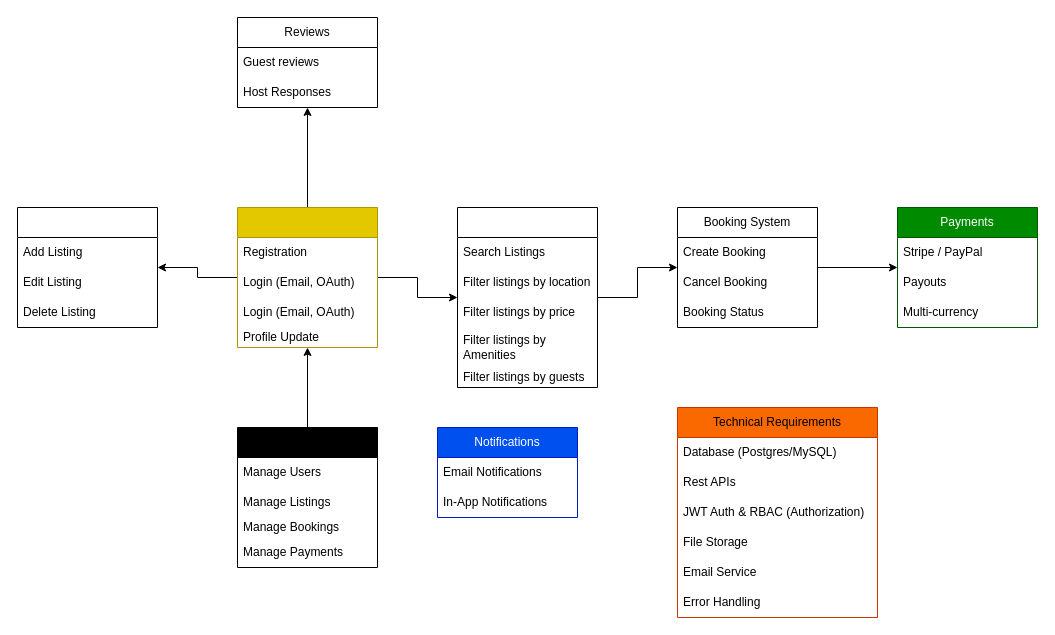
This 1055x635 diagram has some shape labels left out. The box of each missing label's shape, as (x1, y1, x2, y2) in pixels:
Property Listings: (16, 206, 158, 328)
Search and Filter: (456, 206, 598, 388)
User Management: (236, 206, 378, 348)
